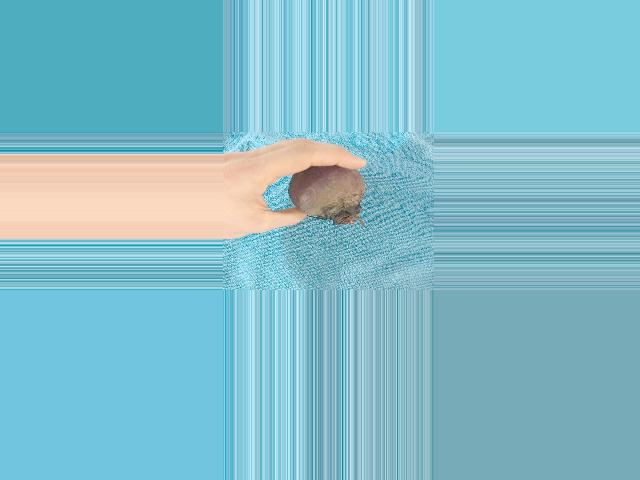beet: (289, 166, 365, 226)
